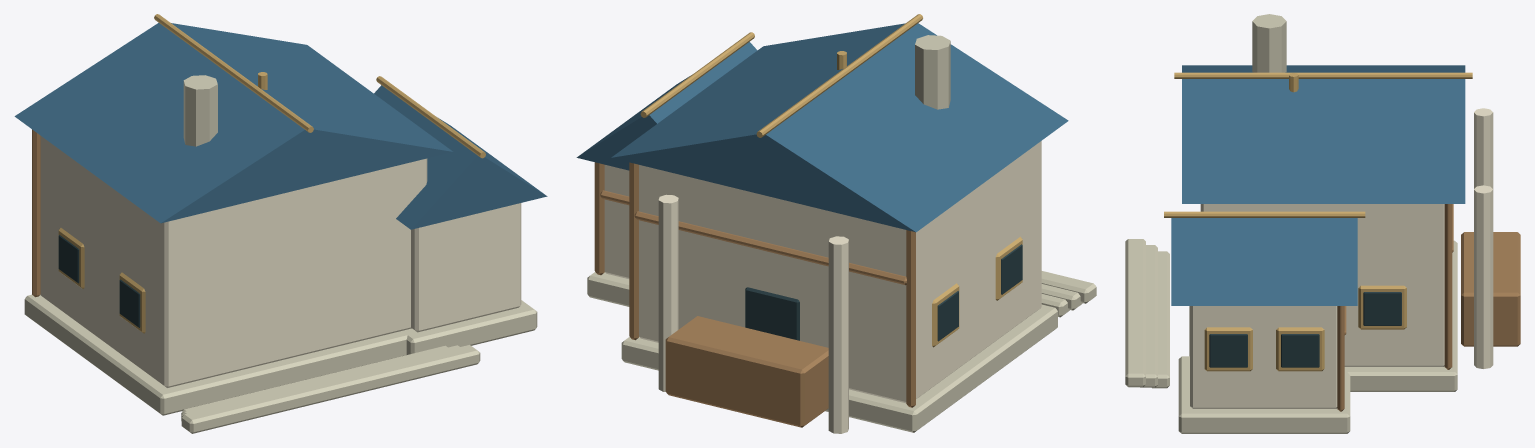
The model's file is level_21.glb.
The picture shows the model from 3 angles, left to right: view 1: azimuth 30°, elevation 25°; view 2: azimuth 150°, elevation 25°; view 3: azimuth 270°, elevation 25°; orthographic projection. The views are drawn at different scales.
Visible parts, largest first — view 1: workshop — level 21; view 2: workshop — level 21; view 3: workshop — level 21.
Part boxes in pixels (left/top/right/bottom): workshop — level 21: left=14, top=14, right=547, bottom=433; workshop — level 21: left=576, top=14, right=1096, bottom=433; workshop — level 21: left=1125, top=14, right=1520, bottom=433.
Bounding box in the file's own units: 5.72 × 4.09 × 5.3.
